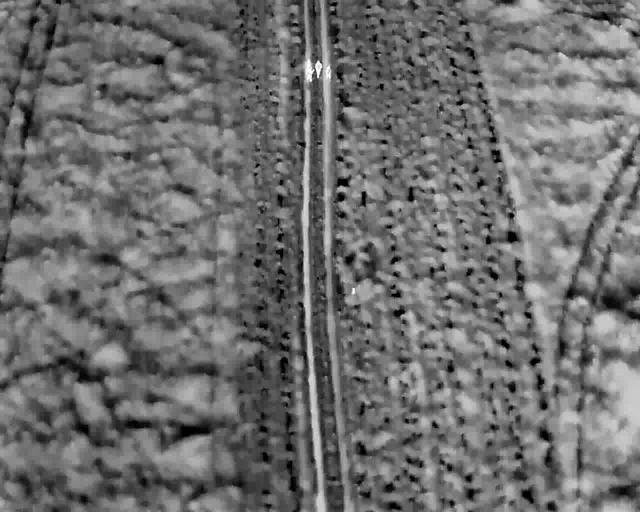person: (313, 59, 323, 79), (324, 63, 334, 82), (305, 66, 315, 82), (303, 58, 313, 74)
